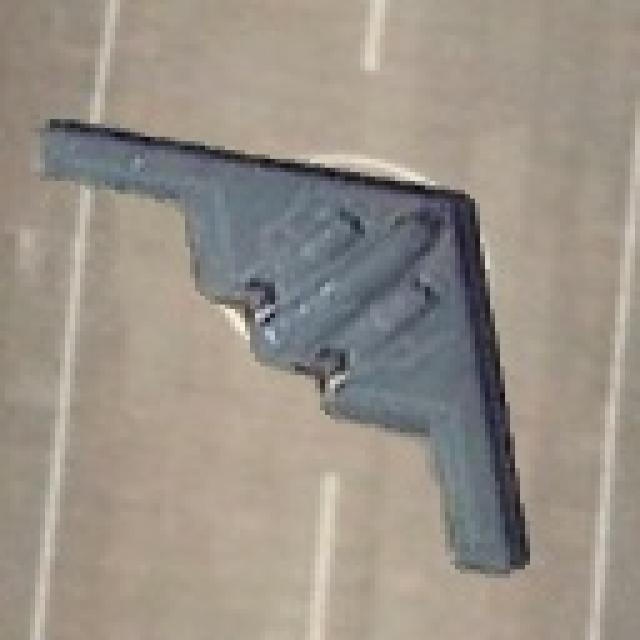B-2_TopDown: (30, 106, 535, 574)
